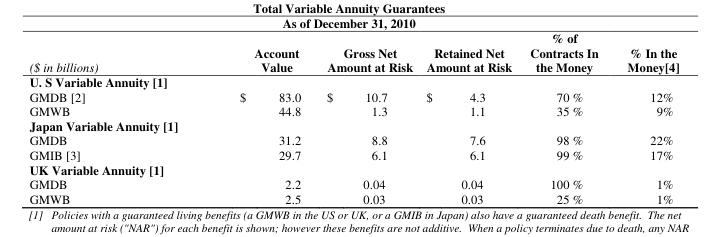table: (28, 29, 678, 206)
table column: (168, 29, 313, 206), (28, 29, 168, 206), (313, 29, 418, 206), (418, 29, 520, 206), (520, 29, 612, 206), (612, 29, 678, 206)
table column header: (28, 29, 678, 74)
table projected row header: (28, 74, 678, 89), (28, 117, 678, 132), (28, 161, 678, 176)
table row: (28, 29, 678, 74), (28, 190, 678, 206), (28, 74, 678, 89), (28, 102, 678, 117), (28, 117, 678, 132), (28, 146, 678, 161), (28, 161, 678, 176), (28, 132, 678, 146), (28, 176, 678, 190), (28, 89, 678, 102)
